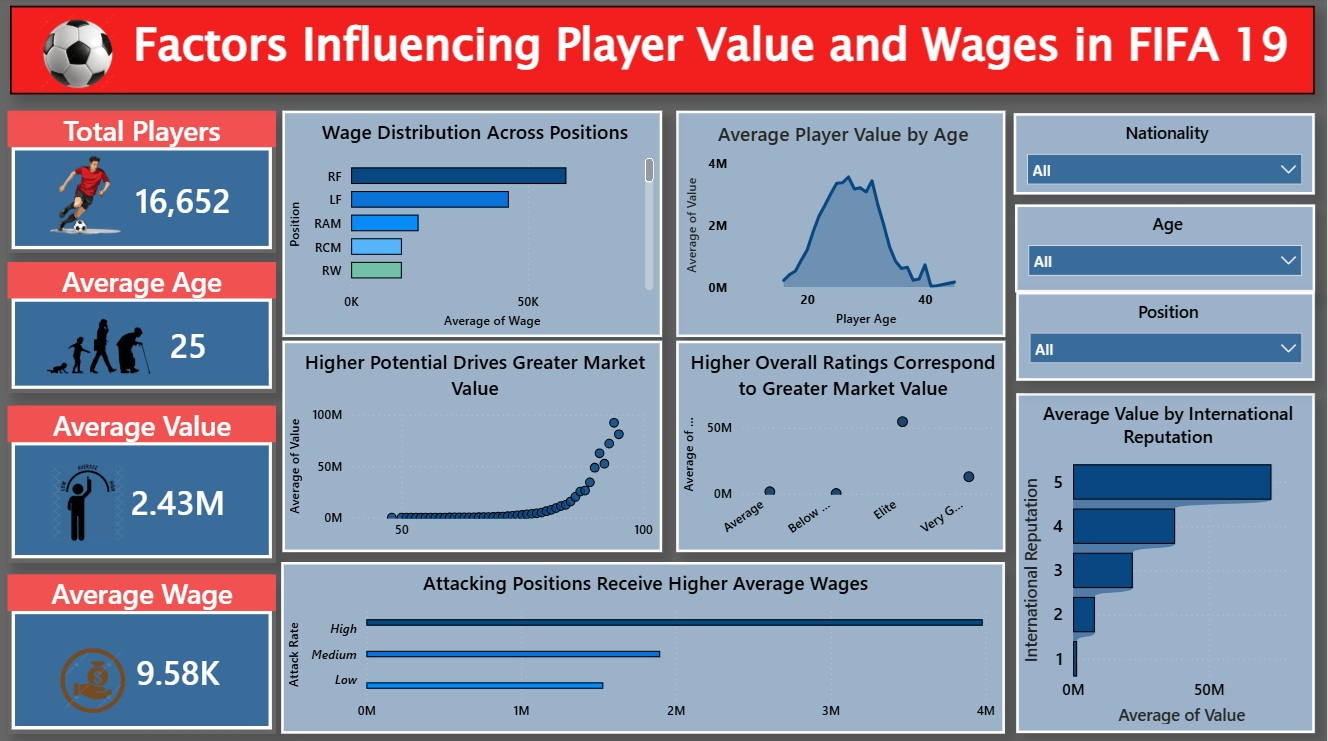

This screenshot's page, from the dashboard's own definition file:
{"tool":"powerbi","page":{"name":"Page 1","canvas":[1280,720],"ordinal":0},"visuals":[{"type":"cardVisual","title":"Total Players","fields":{"Data":["fifa19.Total Players"]},"box":[7.2,109.8,259.4,137.5],"z":0},{"type":"cardVisual","title":"Average Age","fields":{"Data":["fifa19.Average Age"]},"box":[7.2,255.8,259.4,126.7],"z":1000},{"type":"cardVisual","title":"Average Value","fields":{"Data":["fifa19.Average Value"]},"box":[7.2,394.5,259.4,152],"z":2000},{"type":"cardVisual","title":"Average Wage","fields":{"Data":["fifa19.Average Wage"]},"box":[7.2,557.4,259.4,153.2],"z":3000},{"type":"image","box":[12.7,150.1,142.5,81.4],"z":4000},{"type":"textbox","box":[9.7,8.4,1259.5,85.7],"z":5000},{"type":"image","box":[13.3,293.2,166.5,89.3],"z":6000},{"type":"image","box":[0,451.2,168.9,73.6],"z":7000},{"type":"image","box":[7.6,628.5,165.4,62.3],"z":8000},{"type":"image","box":[0,14,151.4,80.2],"z":9000},{"type":"lineChart","title":"Average Player Value by Age","fields":{"Y":["Avg(fifa19.Value)"],"Category":["fifa19.Age"]},"box":[652.7,109.8,317.3,218.4],"z":10000},{"type":"barChart","title":"Wage Distribution Across Positions","fields":{"Y":["Avg(fifa19.Wage)"],"Category":["fifa19.Position"],"Series":["fifa19.Position"]},"box":[272.7,109.8,366.8,218.4],"z":11000},{"type":"scatterChart","title":"Higher Potential Drives Greater Market Value","fields":{"X":["fifa19.Potential"],"Y":["Avg(fifa19.Value)"]},"box":[272.7,331.8,366.8,203.9],"z":12000},{"type":"scatterChart","title":"Higher Overall Ratings Correspond to Greater Market Value","fields":{"X":["fifa19.Overall_Ratings"],"Y":["Avg(fifa19.Value)"]},"box":[652.7,331.8,317.3,203.9],"z":13000},{"type":"clusteredBarChart","title":"Attacking Positions Receive Higher Average Wages","fields":{"Y":["Avg(fifa19.Value)"],"Category":["fifa19.Attack Rate"],"Series":["fifa19.Attack Rate"]},"box":[271.4,545.3,698.5,165.3],"z":14000},{"type":"barChart","title":"Average Value by International Reputation","fields":{"Category":["fifa19.International Reputation"],"Y":["Avg(fifa19.Value)"]},"box":[980.8,382.4,288.3,328.2],"z":15000},{"type":"slicer","title":"Nationality","fields":{"Values":["fifa19.Nationality"]},"box":[978.4,112.2,290.8,78.4],"z":16000},{"type":"slicer","title":"Age","fields":{"Values":["fifa19.Age"]},"box":[979.6,200.3,289.5,84.5],"z":16001},{"type":"slicer","title":"Position","fields":{"Values":["fifa19.Position"]},"box":[980.8,284.7,288.3,85.7],"z":16002}]}

Visuals, with their boxes in screenshot pixels (x1, y1, x2, y2), scaled from the page's 1280x720 canvas onto the 1328x741 screenshot:
"Total Players" cardVisual: BBox(7, 113, 277, 255)
"Average Age" cardVisual: BBox(7, 263, 277, 394)
"Average Value" cardVisual: BBox(7, 406, 277, 562)
"Average Wage" cardVisual: BBox(7, 574, 277, 731)
image: BBox(13, 154, 161, 238)
textbox: BBox(10, 9, 1317, 97)
image: BBox(14, 302, 187, 394)
image: BBox(0, 464, 175, 540)
image: BBox(8, 647, 179, 711)
image: BBox(0, 14, 157, 97)
"Average Player Value by Age" lineChart: BBox(677, 113, 1006, 338)
"Wage Distribution Across Positions" barChart: BBox(283, 113, 663, 338)
"Higher Potential Drives Greater Market Value" scatterChart: BBox(283, 341, 663, 551)
"Higher Overall Ratings Correspond to Greater Market Value" scatterChart: BBox(677, 341, 1006, 551)
"Attacking Positions Receive Higher Average Wages" clusteredBarChart: BBox(282, 561, 1006, 731)
"Average Value by International Reputation" barChart: BBox(1018, 394, 1317, 731)
"Nationality" slicer: BBox(1015, 115, 1317, 196)
"Age" slicer: BBox(1016, 206, 1317, 293)
"Position" slicer: BBox(1018, 293, 1317, 381)
